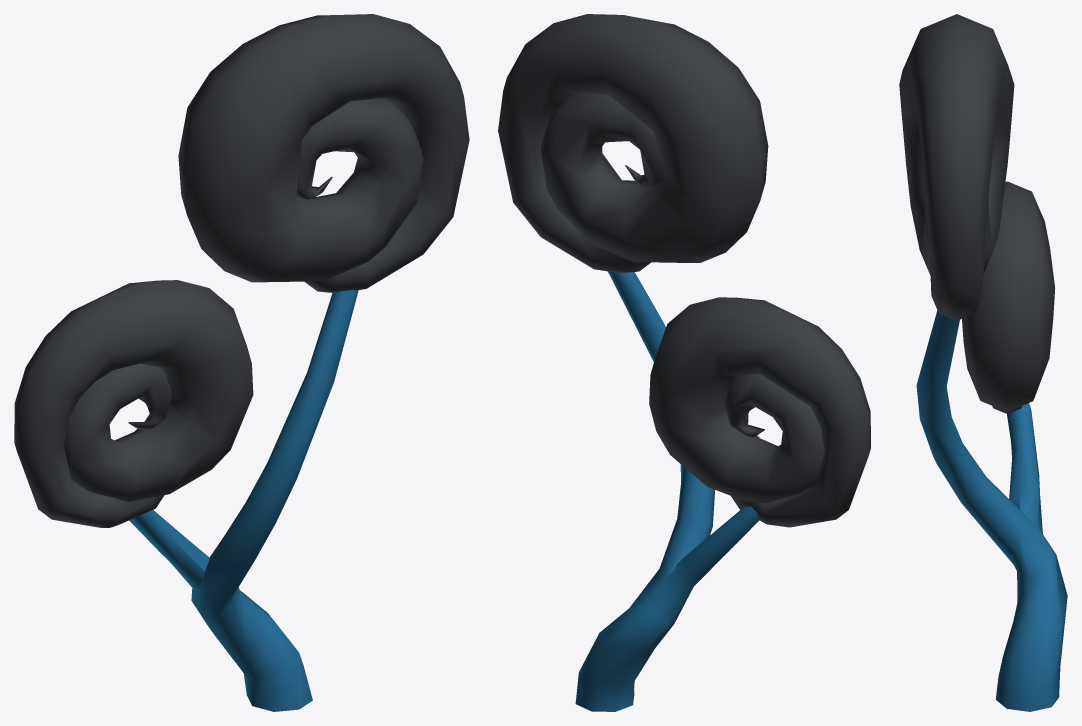
The model's file is cc0-tree-swirl-lod1.glb.
3 views of the same model, side by side, from view 1: azimuth 30°, elevation 25°; view 2: azimuth 150°, elevation 25°; view 3: azimuth 270°, elevation 25° (orthographic). The views are drawn at different scales.
Visible parts, largest first — view 1: part_0; view 2: part_0; view 3: part_0.
Boxes of the visible parts, <box> form: part_0: <box>14,14,469,711</box>; part_0: <box>498,14,870,711</box>; part_0: <box>899,14,1067,711</box>.
Size of the model in its own units: 4.61 by 7.35 by 1.68.
Materials: 1 (1 with a texture image).
